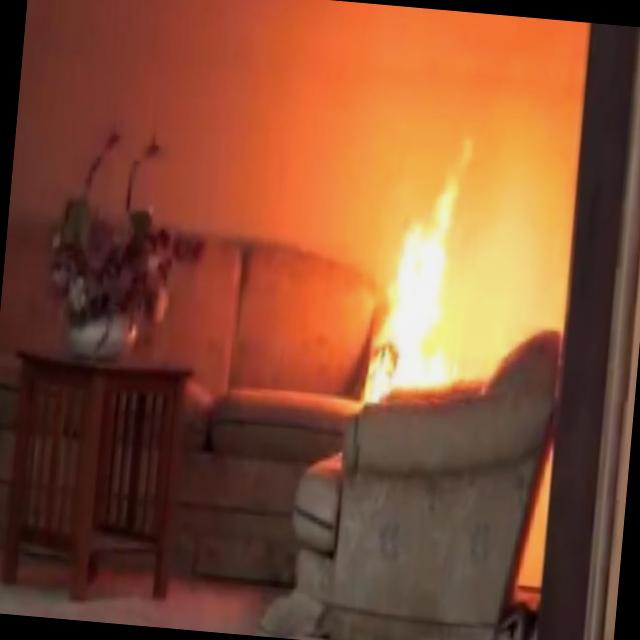fire: (356, 153, 503, 412)
